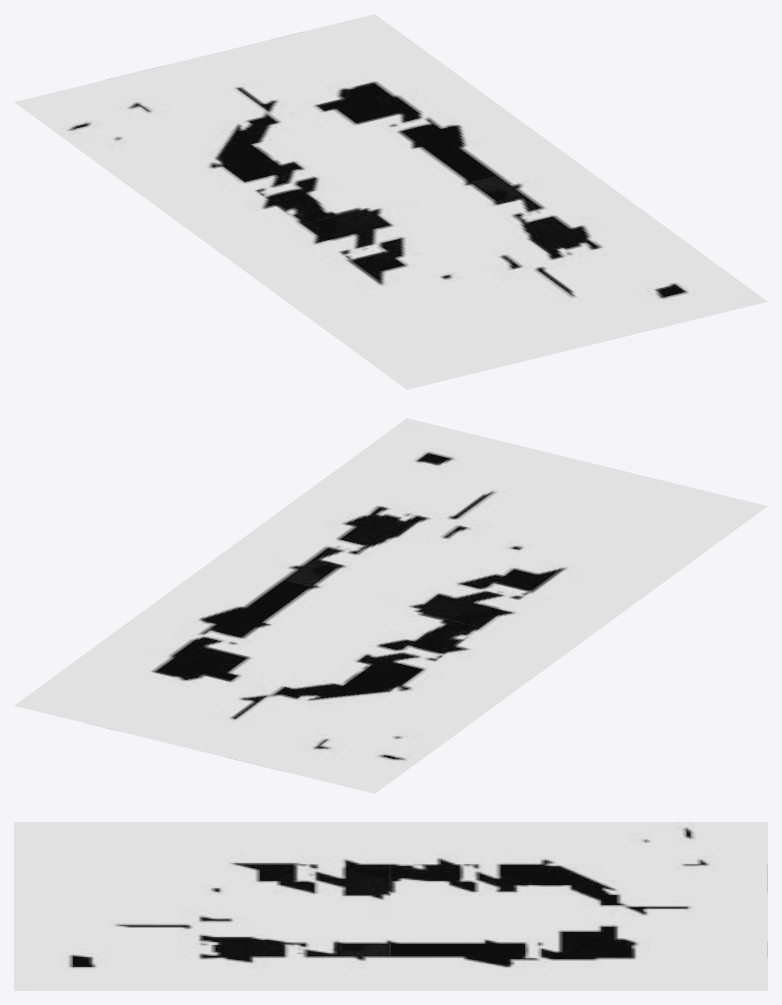
File: shadow.obj
3 renders of one model, top to bottom at view 1: azimuth 30°, elevation 25°; view 2: azimuth 150°, elevation 25°; view 3: azimuth 270°, elevation 25°, orthographic. The views are drawn at different scales.
Parts seen in each view (by area): view 1: shadow; view 2: shadow; view 3: shadow.
Boxes of the visible parts, bbox=[...] form: shadow: bbox=[14, 14, 767, 389]; shadow: bbox=[14, 418, 767, 793]; shadow: bbox=[14, 822, 767, 990].
Bounding box in the file's own units: 2800 × 0 × 5280.
